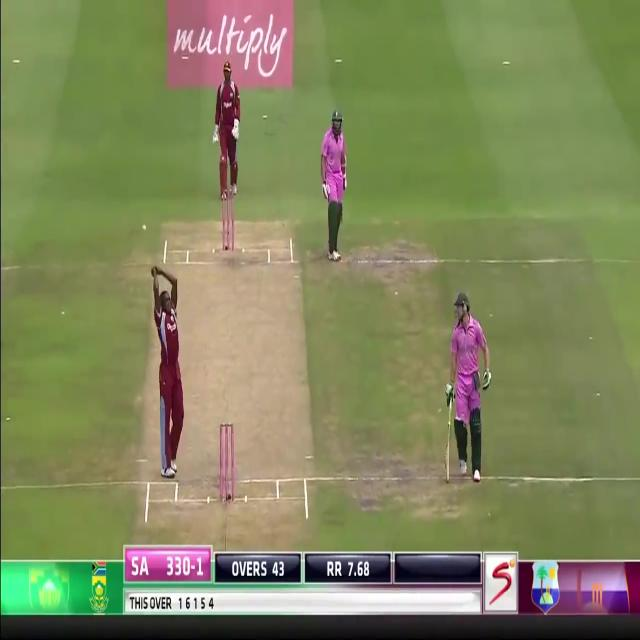Ball: (447, 294, 489, 480), (320, 112, 348, 260)
Fielder: (152, 263, 181, 475), (213, 63, 241, 195)
